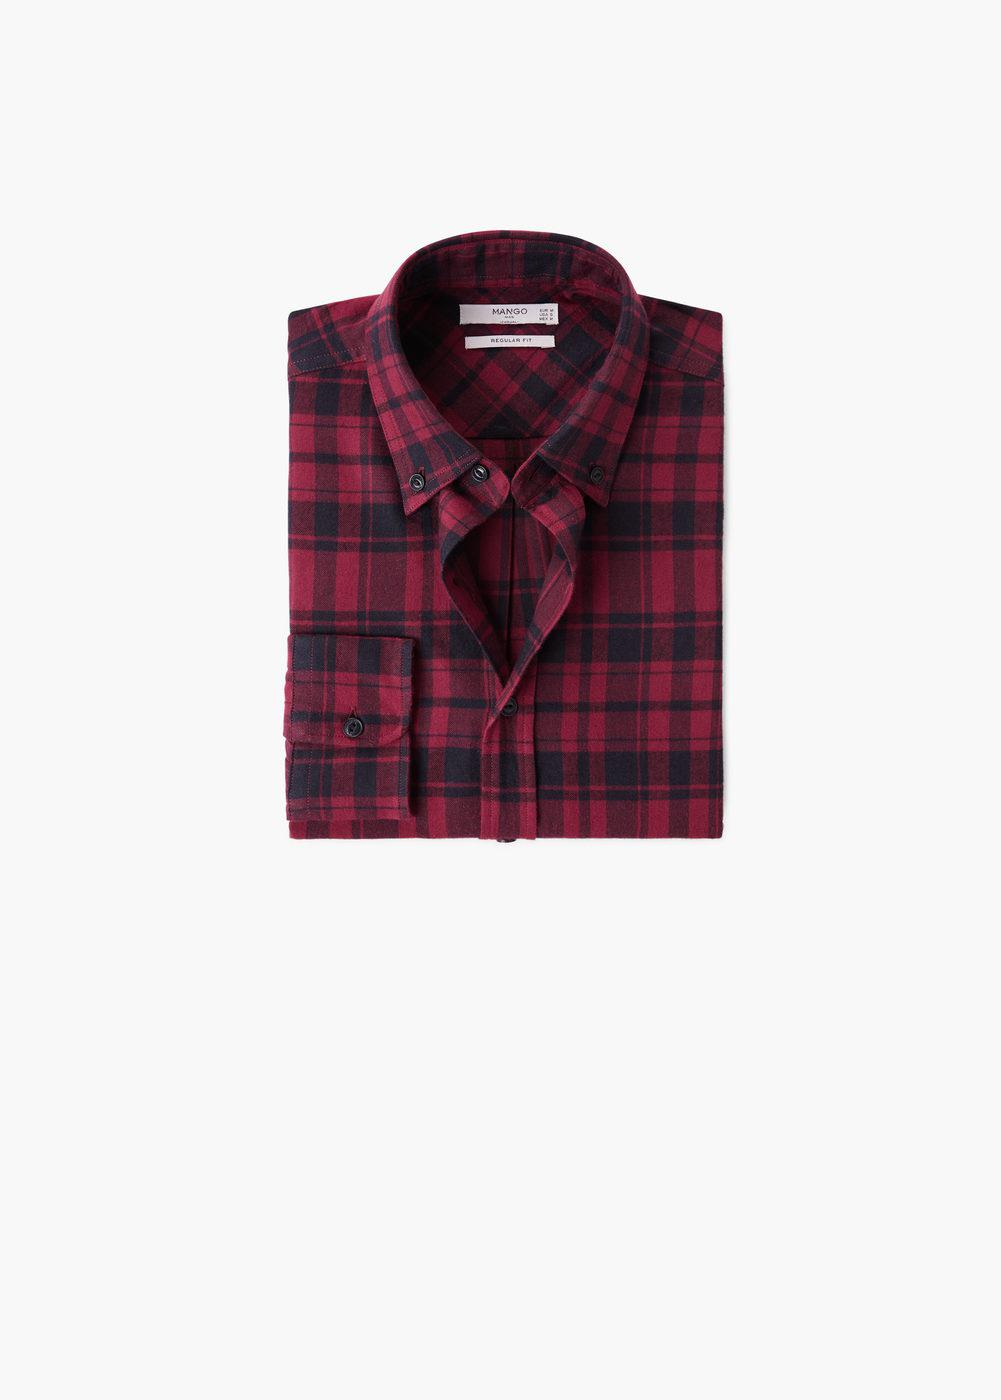teeshirt: (265, 223, 746, 863)
